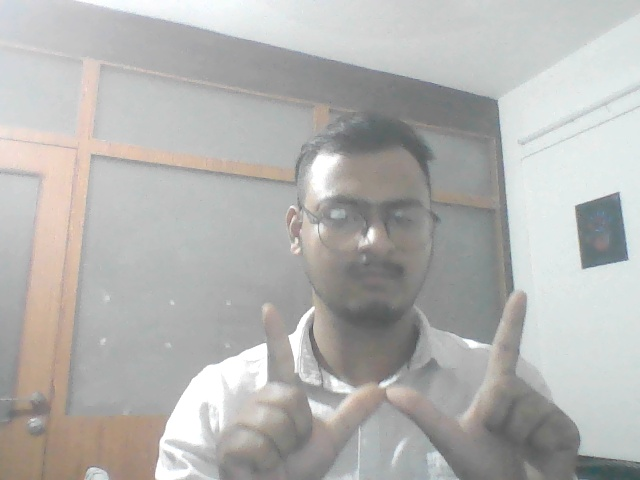Whatever: (196, 286, 592, 480)
